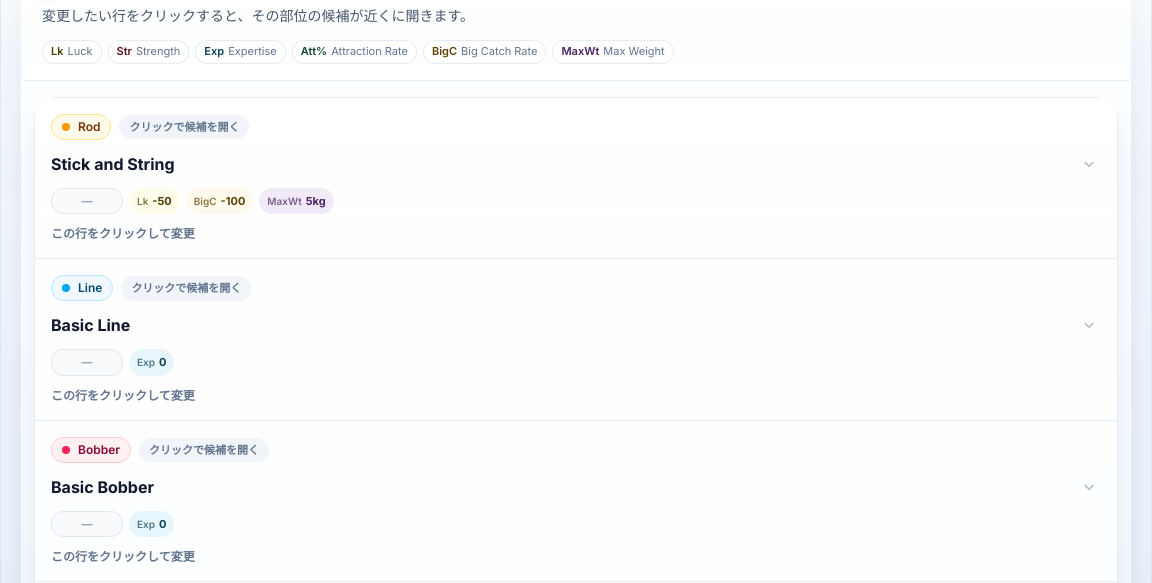
Test case: UI quality – overflow and wrapping prevention › inventory drawer close button has whitespace-nowrap to prevent label wrapping
Click the button named "Rod を選び直す": coordinates (576, 178) [35,98,1117,258]
(page scrolled)
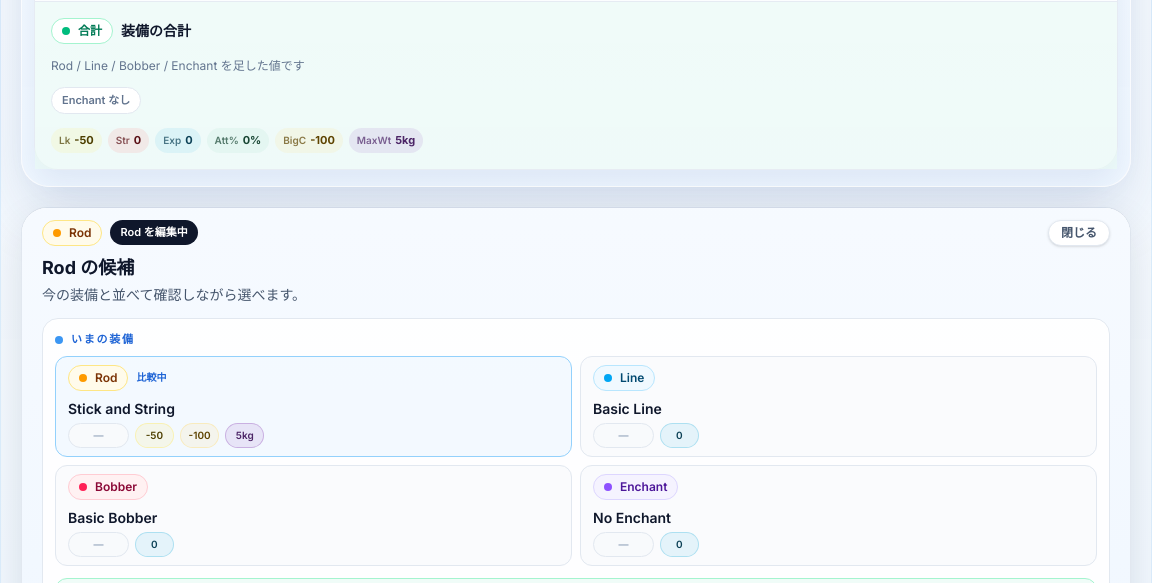
Now the text "閉じる" is shown, box [1061,225,1097,240]
